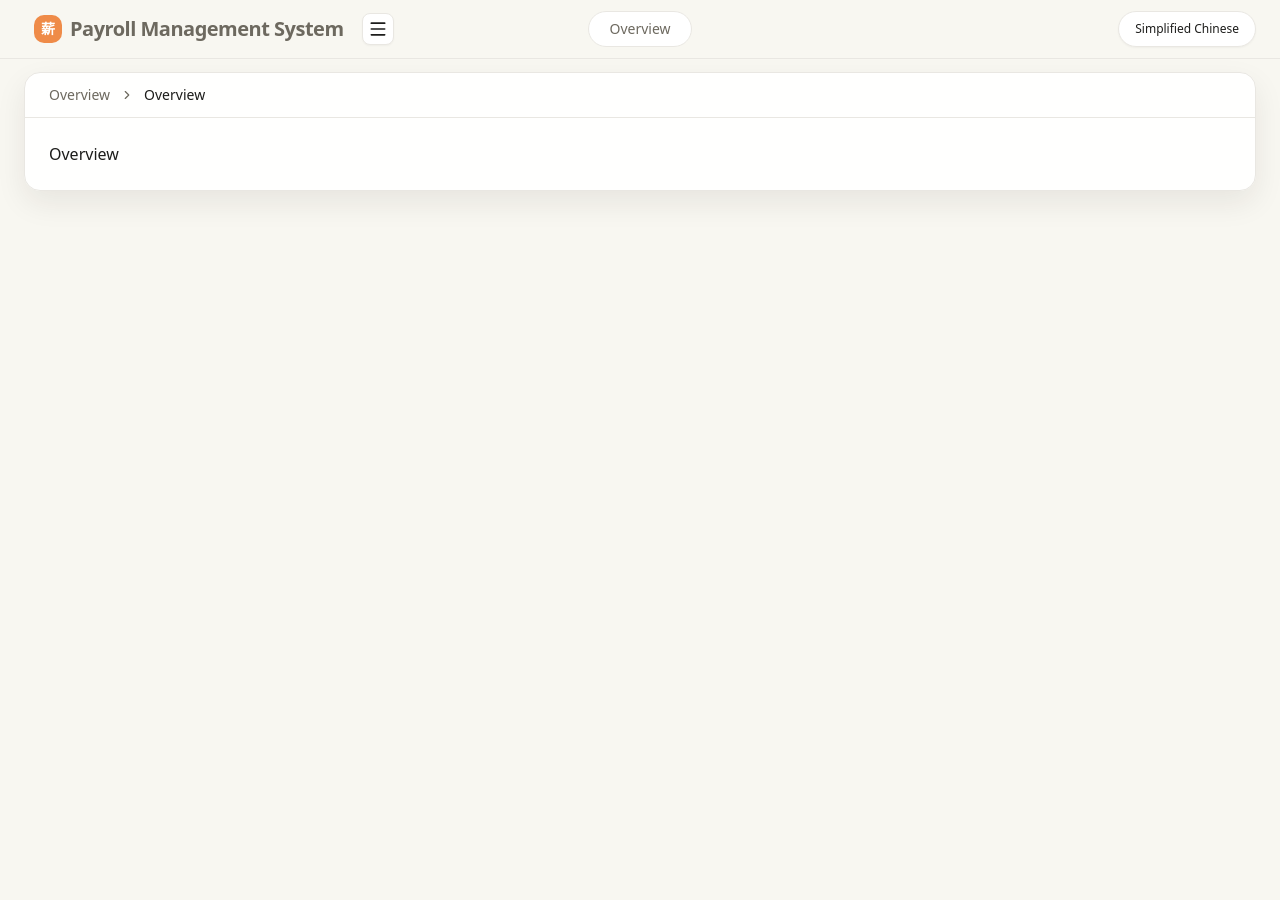
Test: P0 layout navigation › opens panel after clicking menu button
The image size is (1280, 900).
What coordinates should you click on to do the following:
click the button named "Menu"
I would click on:
 (378, 29)
Its box is [362,13,394,45].
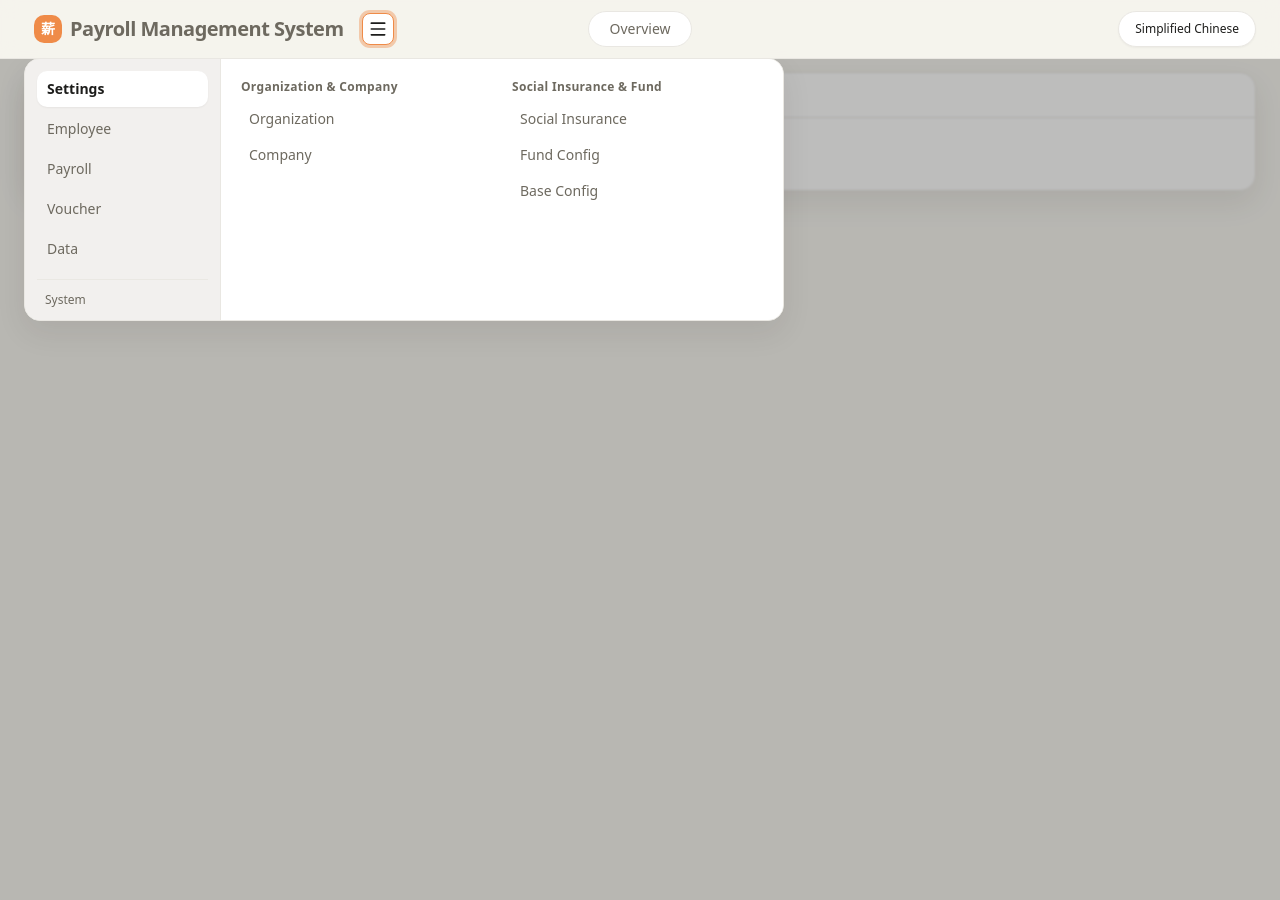
Now the text "System" is shown, box [45,291,86,308]
Now the button "Settings" is shown, box [37,71,208,107]
